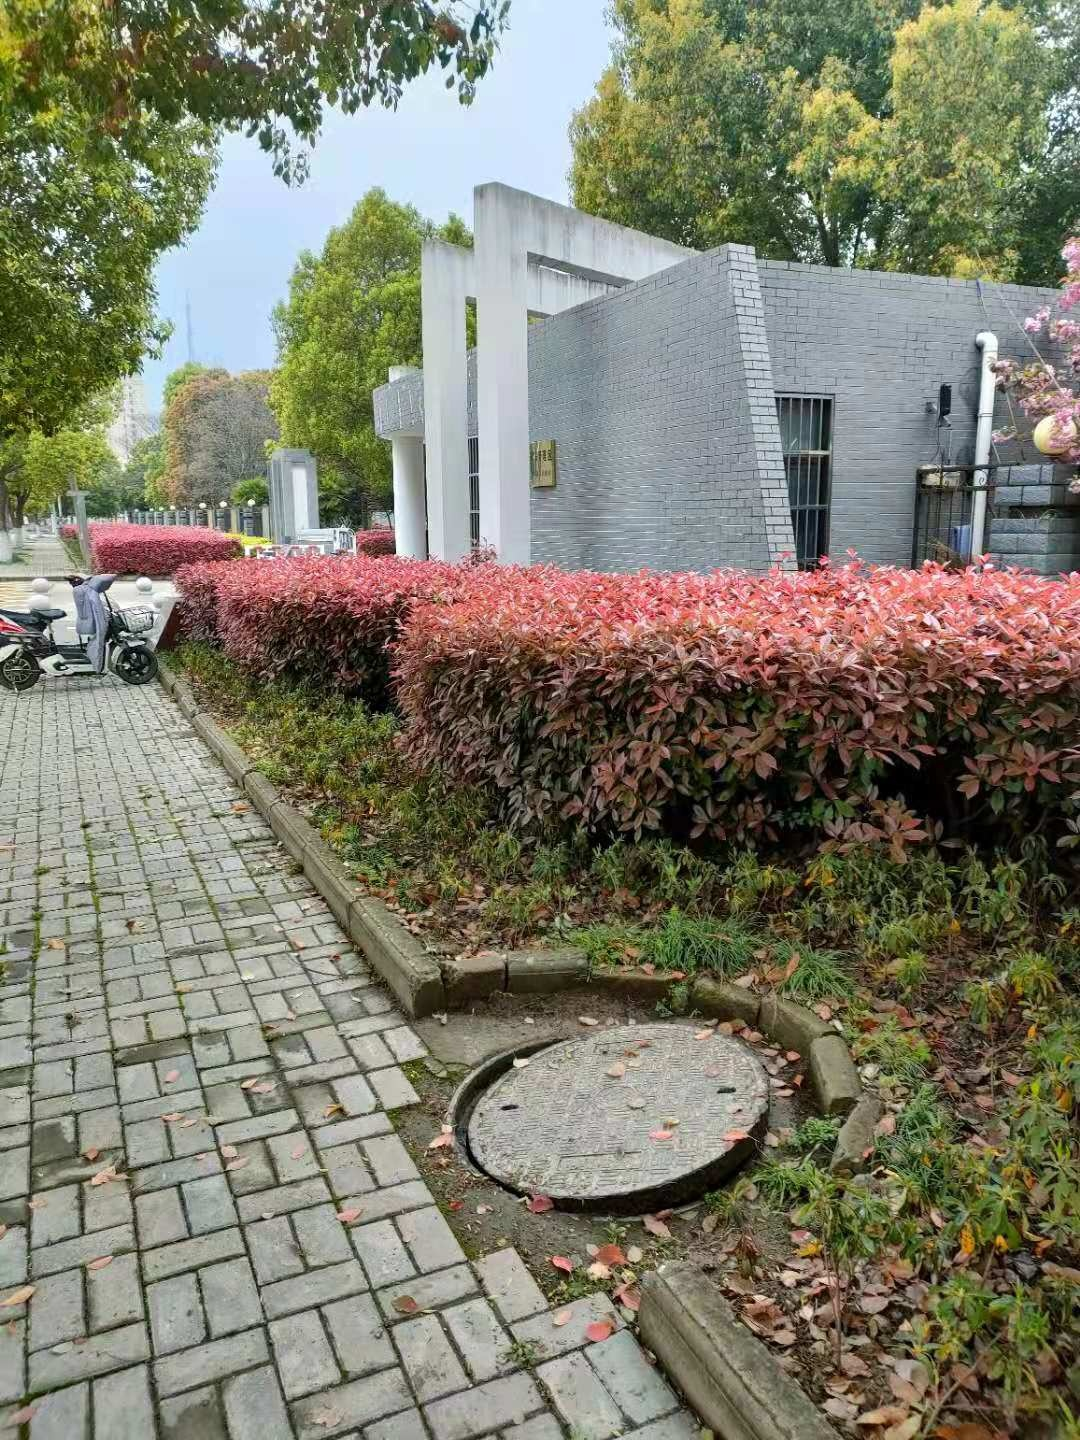uncovered: (447, 1020, 777, 1225)
